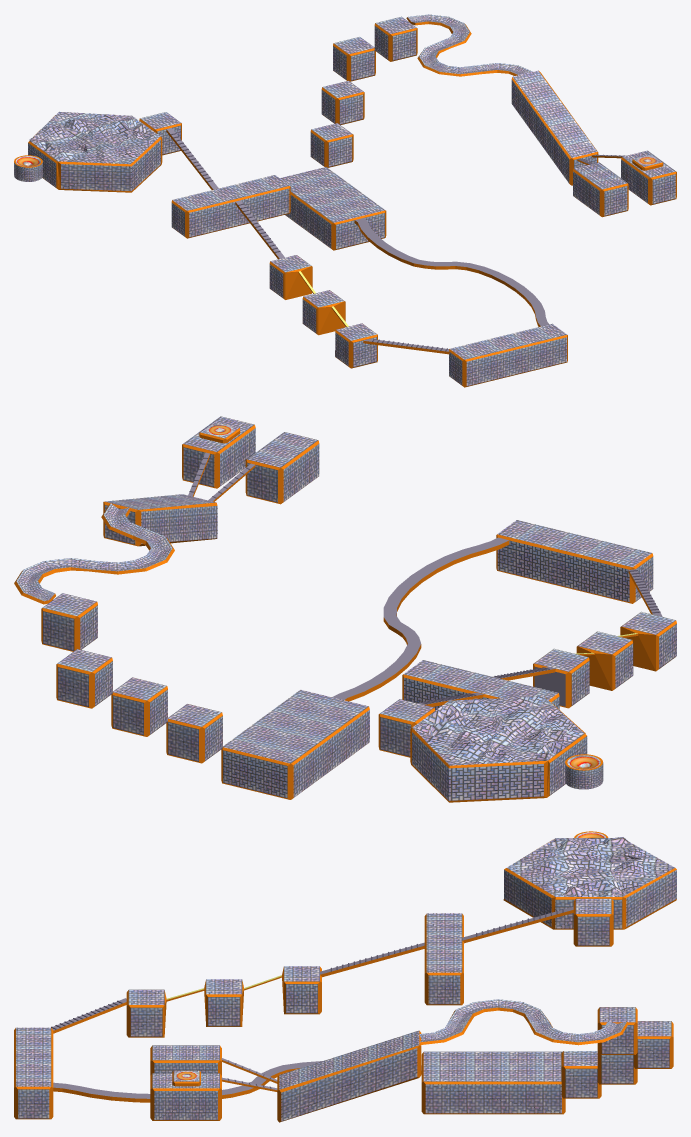
The model's file is Level30.fbx.
3 views of the same model, one above another, from view 1: azimuth 30°, elevation 25°; view 2: azimuth 150°, elevation 25°; view 3: azimuth 270°, elevation 25° (orthographic). The views are drawn at different scales.
Parts seen in each view (by area): view 1: Level30; view 2: Level30; view 3: Level30.
Boxes of the visible parts, x1,y1,x2,y2 form: Level30: (14,14,676,387); Level30: (14,416,676,802); Level30: (14,831,676,1122).
Bounding box in the file's own units: 5389 × 1431 × 5518.
12 materials, 7 textured.
